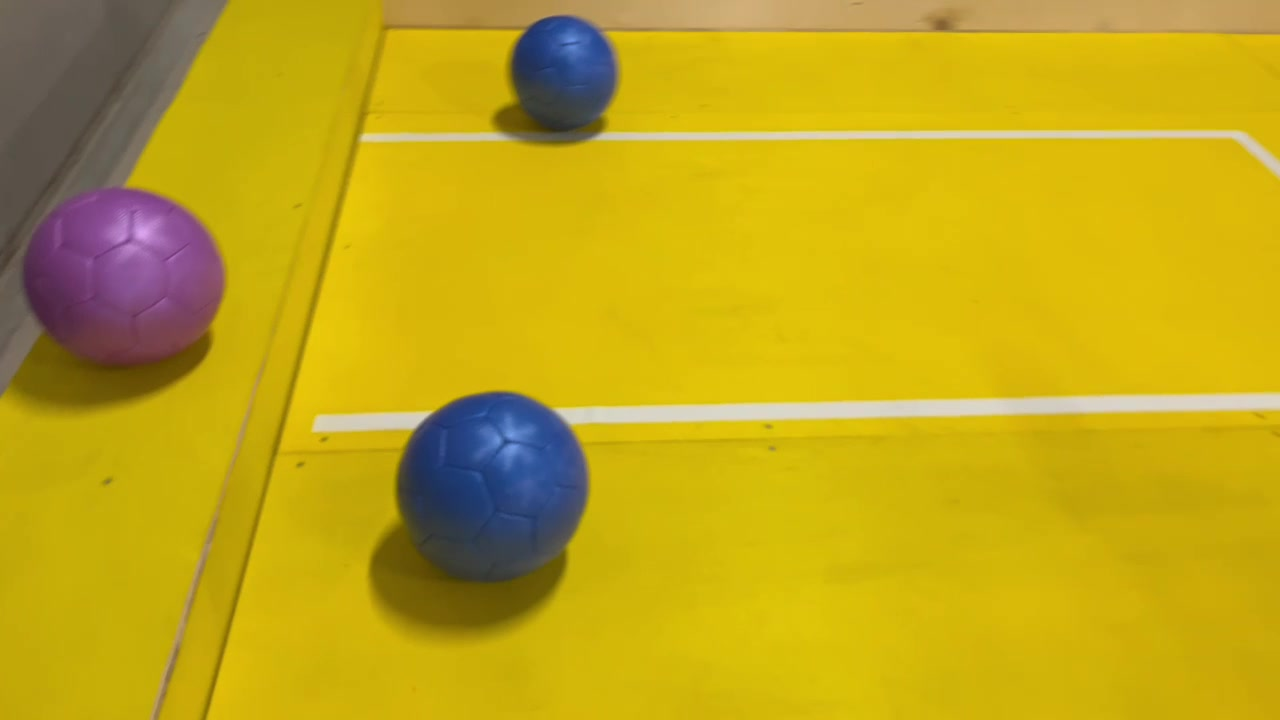blue: (390, 387, 588, 593), (504, 11, 617, 135)
